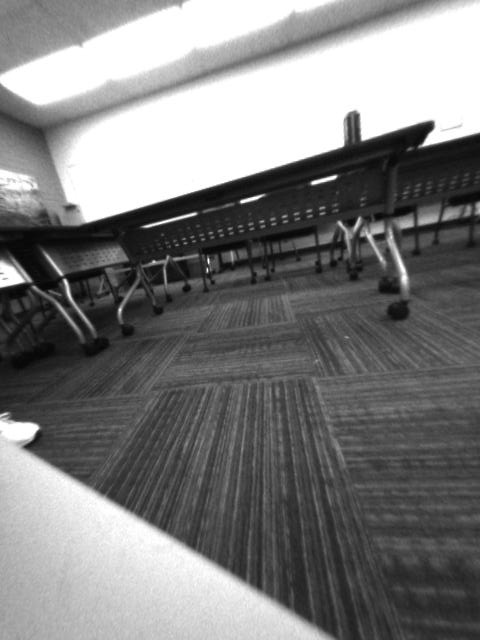can: (341, 106, 364, 149)
